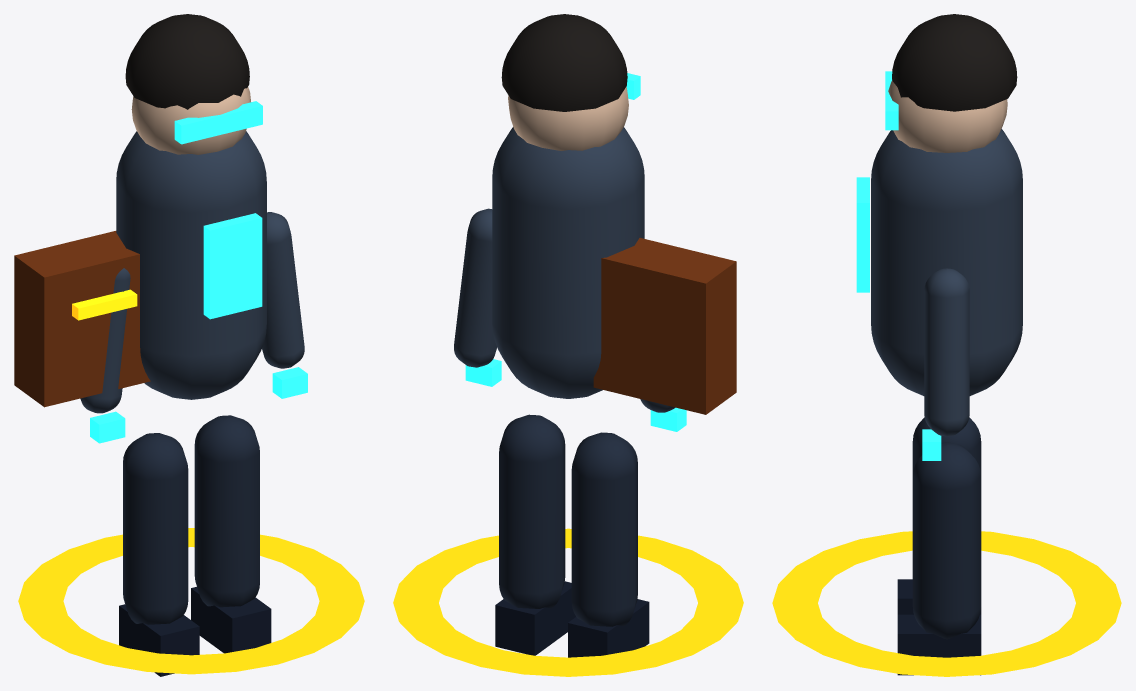
File: humanoid.glb
3 renders of one model, left to right at view 1: azimuth 30°, elevation 25°; view 2: azimuth 150°, elevation 25°; view 3: azimuth 270°, elevation 25°, orthographic.
Visible parts, largest first — view 1: humanoid_jacket_torso, humanoid_left_pant_leg (×2), humanoid_courier_bag, humanoid_ground_marker, humanoid_hair_cap, humanoid_left_boot (×2), humanoid_leno_core_badge, humanoid_right_arm, humanoid_head, humanoid_left_arm, humanoid_visor, humanoid_bag_neon_tag (+2 smaller); view 2: humanoid_jacket_torso, humanoid_left_pant_leg (×2), humanoid_courier_bag, humanoid_ground_marker, humanoid_hair_cap, humanoid_left_boot (×2), humanoid_right_arm, humanoid_head, humanoid_right_wrist_chip, humanoid_left_wrist_chip; view 3: humanoid_jacket_torso, humanoid_ground_marker, humanoid_left_pant_leg (×2), humanoid_hair_cap, humanoid_right_arm, humanoid_head, humanoid_left_boot (×2), humanoid_leno_core_badge, humanoid_right_wrist_chip, humanoid_visor.
Boxes of the visible parts, x1=… form: humanoid_jacket_torso: x1=116, y1=131, x2=266, y2=399; humanoid_left_pant_leg (×2): x1=123, y1=415, x2=259, y2=624; humanoid_courier_bag: x1=14, y1=231, x2=150, y2=407; humanoid_ground_marker: x1=18, y1=528, x2=364, y2=674; humanoid_hair_cap: x1=125, y1=14, x2=249, y2=109; humanoid_left_boot (×2): x1=119, y1=586, x2=271, y2=676; humanoid_leno_core_badge: x1=203, y1=213, x2=262, y2=319; humanoid_right_arm: x1=262, y1=212, x2=304, y2=368; humanoid_head: x1=131, y1=87, x2=250, y2=154; humanoid_left_arm: x1=80, y1=268, x2=130, y2=413; humanoid_visor: x1=174, y1=101, x2=262, y2=144; humanoid_bag_neon_tag: x1=72, y1=289, x2=137, y2=320; humanoid_jacket_torso: x1=492, y1=127, x2=644, y2=398; humanoid_left_pant_leg (×2): x1=499, y1=414, x2=637, y2=626; humanoid_courier_bag: x1=593, y1=238, x2=736, y2=414; humanoid_ground_marker: x1=393, y1=528, x2=743, y2=676; humanoid_hair_cap: x1=501, y1=14, x2=627, y2=111; humanoid_left_boot (×2): x1=495, y1=581, x2=649, y2=657; humanoid_right_arm: x1=454, y1=208, x2=496, y2=367; humanoid_head: x1=508, y1=86, x2=628, y2=150; humanoid_right_wrist_chip: x1=465, y1=359, x2=501, y2=386; humanoid_left_wrist_chip: x1=650, y1=407, x2=686, y2=431; humanoid_jacket_torso: x1=871, y1=128, x2=1022, y2=395; humanoid_ground_marker: x1=772, y1=531, x2=1121, y2=676; humanoid_left_pant_leg (×2): x1=912, y1=417, x2=981, y2=639; humanoid_hair_cap: x1=892, y1=14, x2=1017, y2=111; humanoid_right_arm: x1=924, y1=268, x2=969, y2=436; humanoid_head: x1=888, y1=80, x2=1007, y2=152; humanoid_left_boot (×2): x1=897, y1=579, x2=981, y2=675; humanoid_leno_core_badge: x1=856, y1=177, x2=869, y2=292; humanoid_right_wrist_chip: x1=922, y1=429, x2=941, y2=460; humanoid_visor: x1=885, y1=71, x2=898, y2=130.
Bounding box in the file's own units: 0.94 × 1.83 × 0.92.
